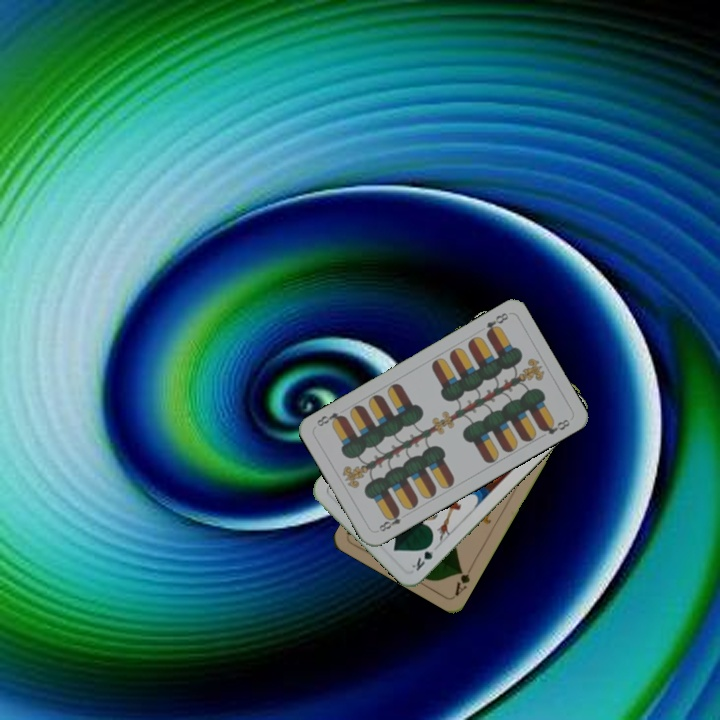E8: (482, 308, 511, 338), (373, 507, 404, 535)
GA: (451, 564, 473, 599)
GK: (408, 538, 436, 574)
